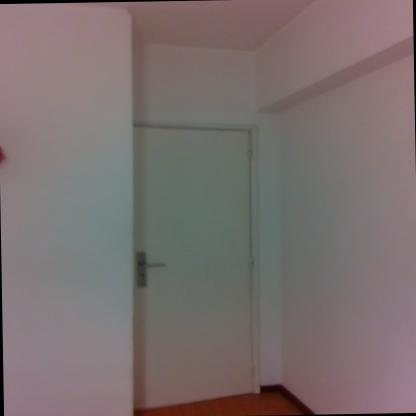closed: (122, 114, 274, 412)
